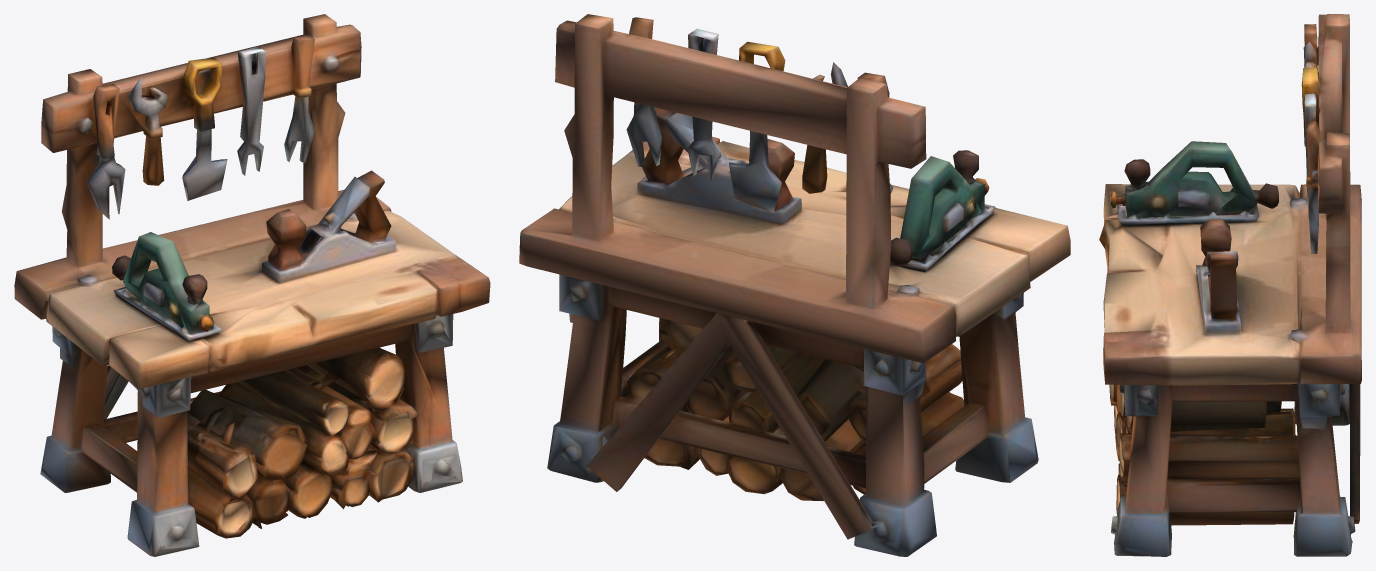
Rendered from mugongtai-2.glb.
3 views of the same model, side by side, from view 1: azimuth 30°, elevation 25°; view 2: azimuth 150°, elevation 25°; view 3: azimuth 270°, elevation 25° (orthographic). The views are drawn at different scales.
Parts seen in each view (by area): view 1: node_0; view 2: node_0; view 3: node_0.
Part boxes in pixels (<box>): node_0: <box>14,14,490,556</box>; node_0: <box>519,14,1070,556</box>; node_0: <box>1099,14,1361,556</box>.
Bounding box in the file's own units: 0.8104 × 0.865 × 0.5102.
1 material, 1 textured.
